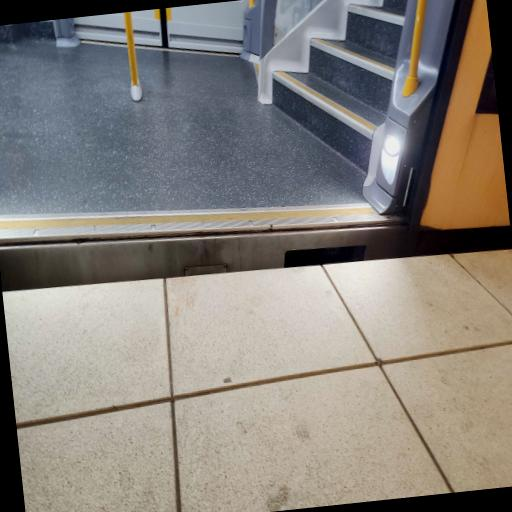gap: (0, 226, 480, 291)
